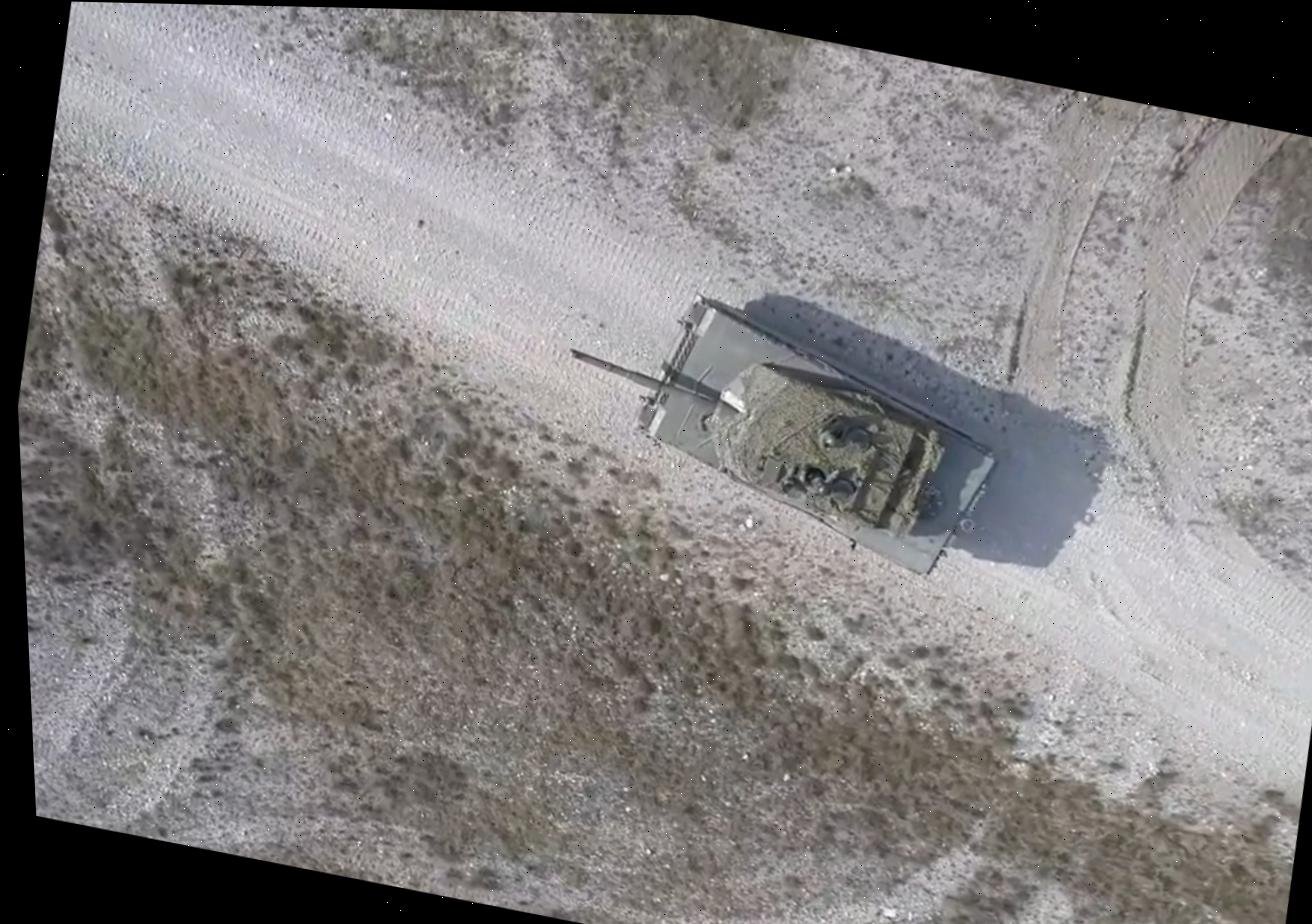tank: (534, 264, 1032, 600)
